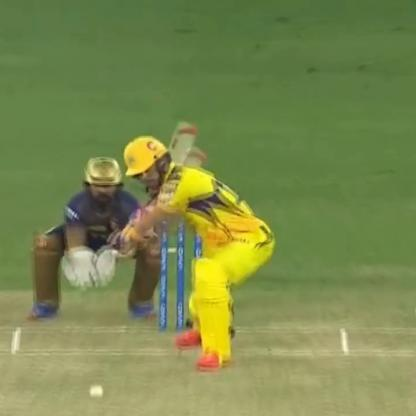ball: (86, 383, 107, 402)
bat: (155, 110, 193, 201)
pitch: (5, 304, 413, 412)
